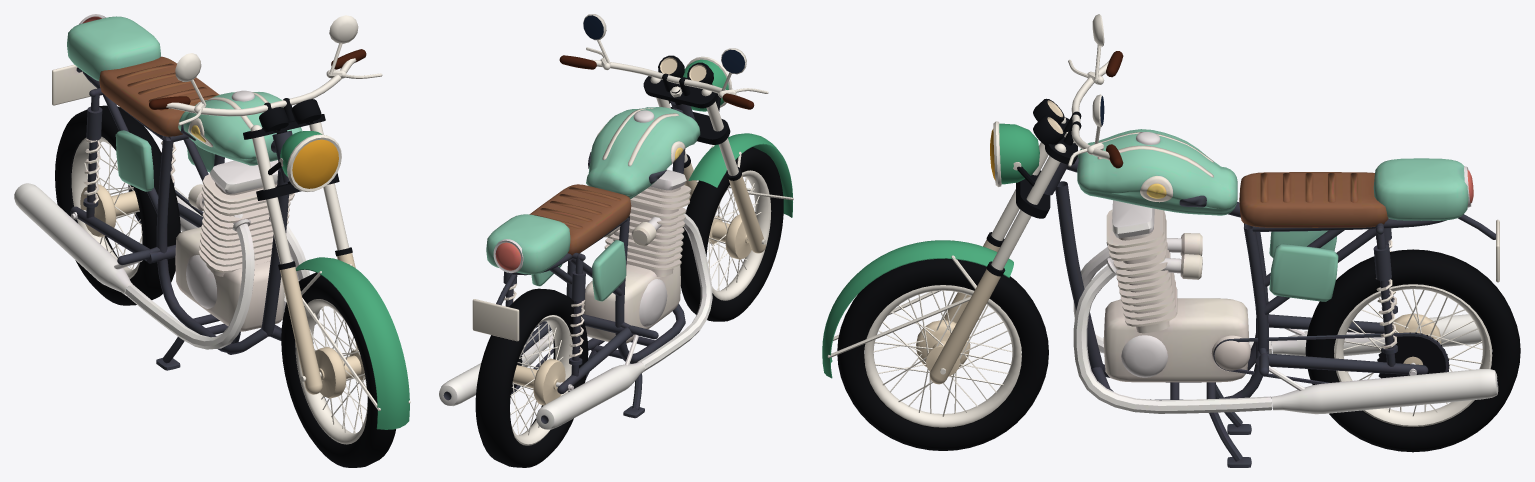
Rendered from motorcycle.obj.
3 renders of one model, left to right at view 1: azimuth 30°, elevation 25°; view 2: azimuth 150°, elevation 25°; view 3: azimuth 270°, elevation 25°, orthographic. The views are drawn at different scales.
Parts seen in each view (by area): view 1: motorcycle_body, motorcycle_steering, motorcycle_wheel_front, motorcycle_wheel_rear; view 2: motorcycle_body, motorcycle_steering, motorcycle_wheel_rear, motorcycle_wheel_front; view 3: motorcycle_body, motorcycle_wheel_front, motorcycle_wheel_rear, motorcycle_steering.
Part boxes in pixels (x1,y1,x2,y2): motorcycle_body: (14, 14, 319, 370); motorcycle_steering: (149, 15, 410, 429); motorcycle_wheel_front: (281, 272, 395, 467); motorcycle_wheel_rear: (55, 105, 180, 305); motorcycle_body: (439, 101, 712, 429); motorcycle_steering: (559, 14, 793, 253); motorcycle_wheel_rear: (475, 288, 588, 467); motorcycle_wheel_front: (680, 147, 783, 321); motorcycle_body: (1044, 129, 1499, 467); motorcycle_wheel_front: (837, 258, 1048, 450); motorcycle_wheel_rear: (1305, 249, 1520, 452); motorcycle_steering: (822, 14, 1123, 384).
Size of the model in its own units: 0.7964 by 1.31 by 2.11.
Materials: 17 (1 with a texture image).
